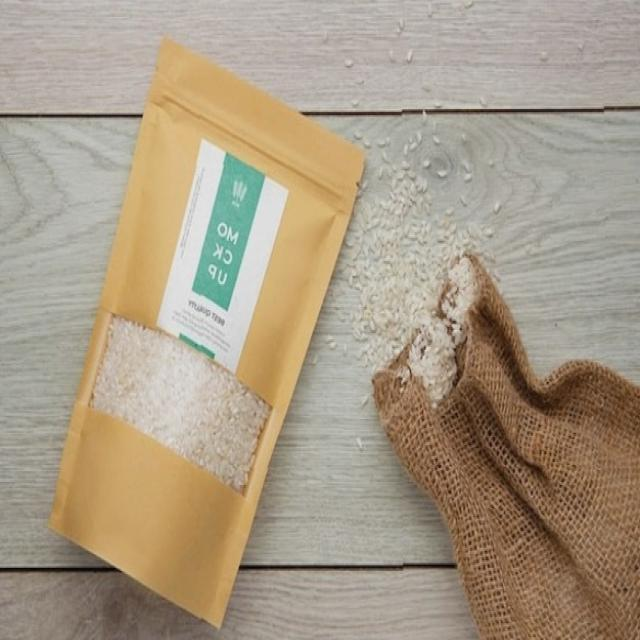rice package: (51, 40, 363, 626)
